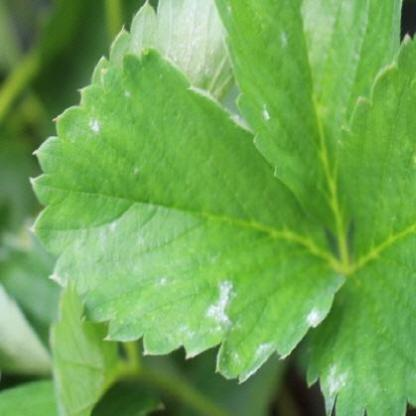Strawberry_Powdery_Mildew_Leaf: (27, 46, 350, 386), (214, 0, 404, 252), (294, 32, 416, 416)
